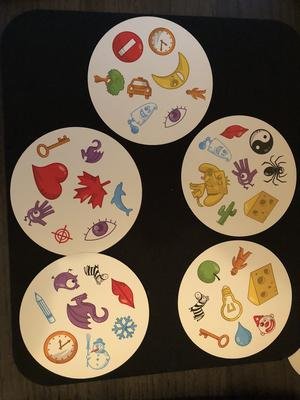ampoule: (217, 284, 246, 322)
araigne: (260, 152, 289, 188)
arbre: (92, 66, 126, 97)
bonhomme: (228, 247, 252, 275), (184, 84, 208, 104)
bonhomme_neige: (82, 332, 111, 371)
bouche: (108, 275, 140, 310), (220, 122, 250, 140)
cactus: (214, 197, 239, 227)
chien: (187, 161, 230, 209)
cible: (51, 222, 74, 246)
cle: (34, 134, 73, 159), (196, 326, 230, 350)
clown: (249, 311, 279, 338)
coeur: (29, 157, 70, 202)
crayon: (32, 289, 59, 325)
dauphin: (111, 180, 136, 217)
dooble: (230, 157, 261, 191), (22, 199, 56, 229)
dragon: (65, 290, 111, 332), (79, 138, 106, 164)
fantome: (126, 101, 159, 136), (198, 135, 233, 164)
feuille: (72, 167, 111, 210)
flocon: (110, 314, 140, 341)
fromage: (245, 262, 282, 306), (241, 187, 282, 225)
goutte: (231, 322, 253, 347)
horloge: (41, 329, 78, 363), (145, 26, 175, 56)
lune: (148, 54, 193, 90)
oeuil: (80, 216, 119, 243), (160, 103, 189, 131)
oiseau: (48, 266, 83, 293)
pomme: (195, 259, 223, 287)
sens_interdit: (111, 29, 144, 64)
voiture: (124, 73, 154, 100)
ying_yang: (247, 127, 276, 156)
zebre: (184, 290, 212, 322), (82, 262, 110, 287)
